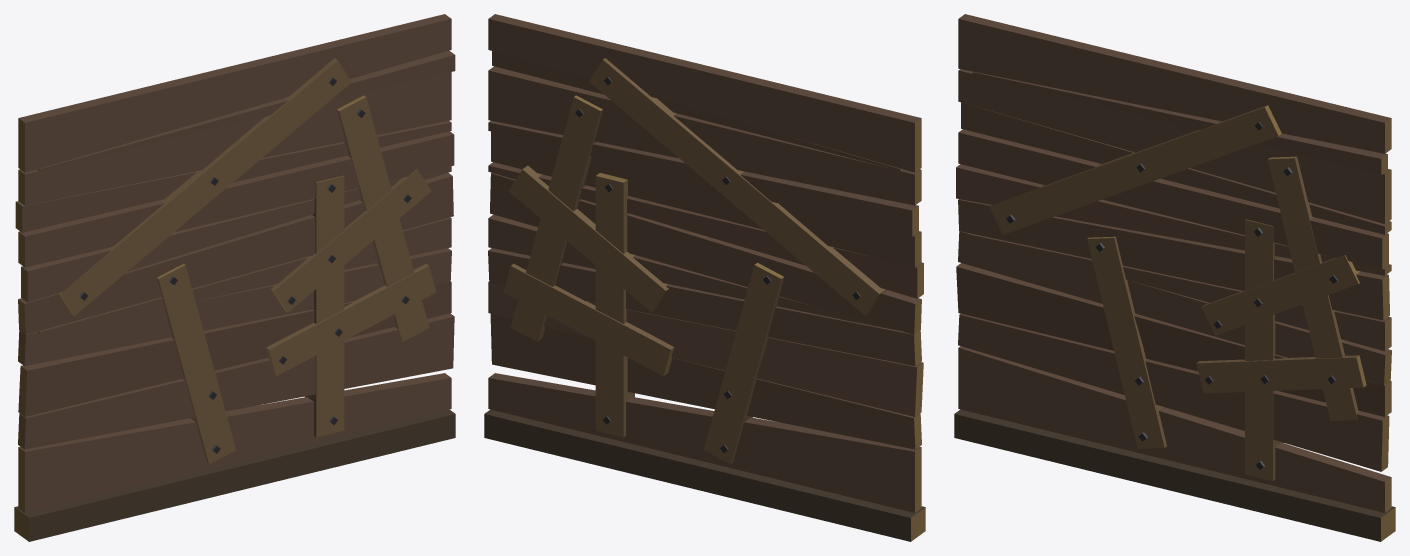
File: Wall_1A_4m.fbx
3 renders of one model, left to right at view 1: azimuth 30°, elevation 25°; view 2: azimuth 150°, elevation 25°; view 3: azimuth 330°, elevation 25°, orthographic.
Visible parts, largest first — view 1: pCube2410; view 2: pCube2410; view 3: pCube2410.
Part boxes in pixels (left/top/right/bottom): pCube2410: left=14, top=14, right=455, bottom=541; pCube2410: left=484, top=14, right=925, bottom=541; pCube2410: left=954, top=14, right=1395, bottom=541.
Bounding box in the file's own units: 401 × 373 × 24.19.
